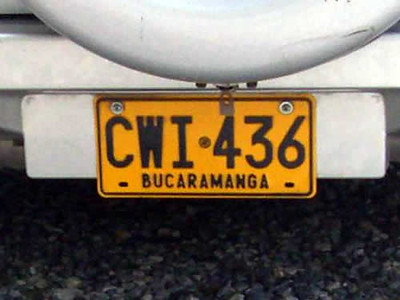placa_carro: (83, 79, 325, 210)
